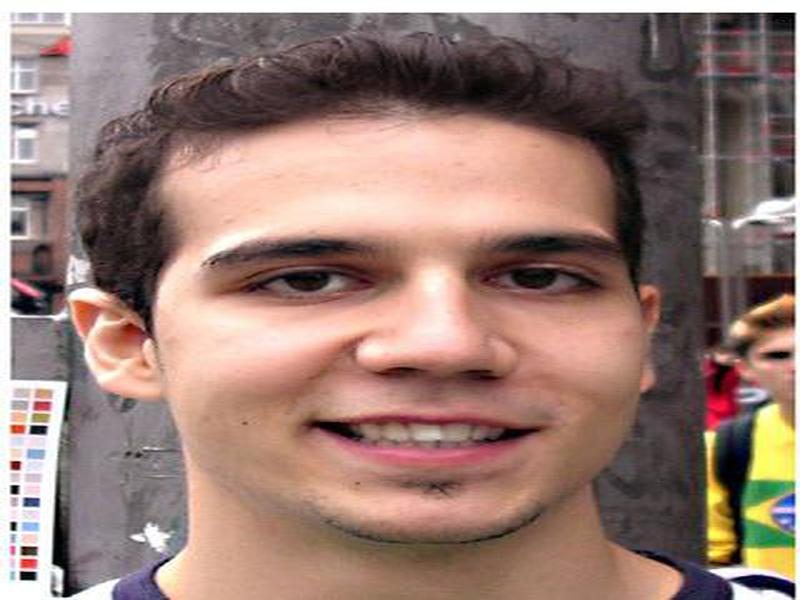without_mask: (161, 148, 648, 550)
